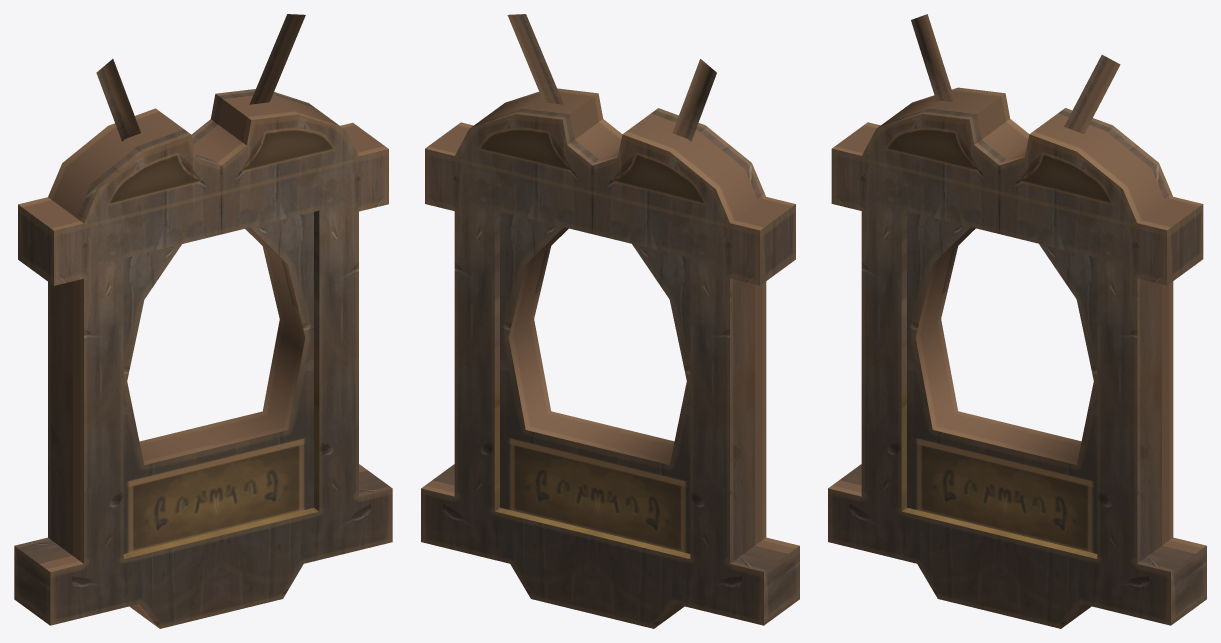
File: Town004_LD_02.FBX
3 views of the same model, side by side, from view 1: azimuth 30°, elevation 25°; view 2: azimuth 150°, elevation 25°; view 3: azimuth 330°, elevation 25° (orthographic).
Parts seen in each view (by area): view 1: Object05; view 2: Object05; view 3: Object05.
Part boxes in pixels (bbox=[...]): Object05: bbox=[14, 14, 392, 628]; Object05: bbox=[421, 14, 799, 628]; Object05: bbox=[828, 14, 1206, 628].
Bounding box in the file's own units: 180 × 284 × 32.78.
1 material, 1 textured.
